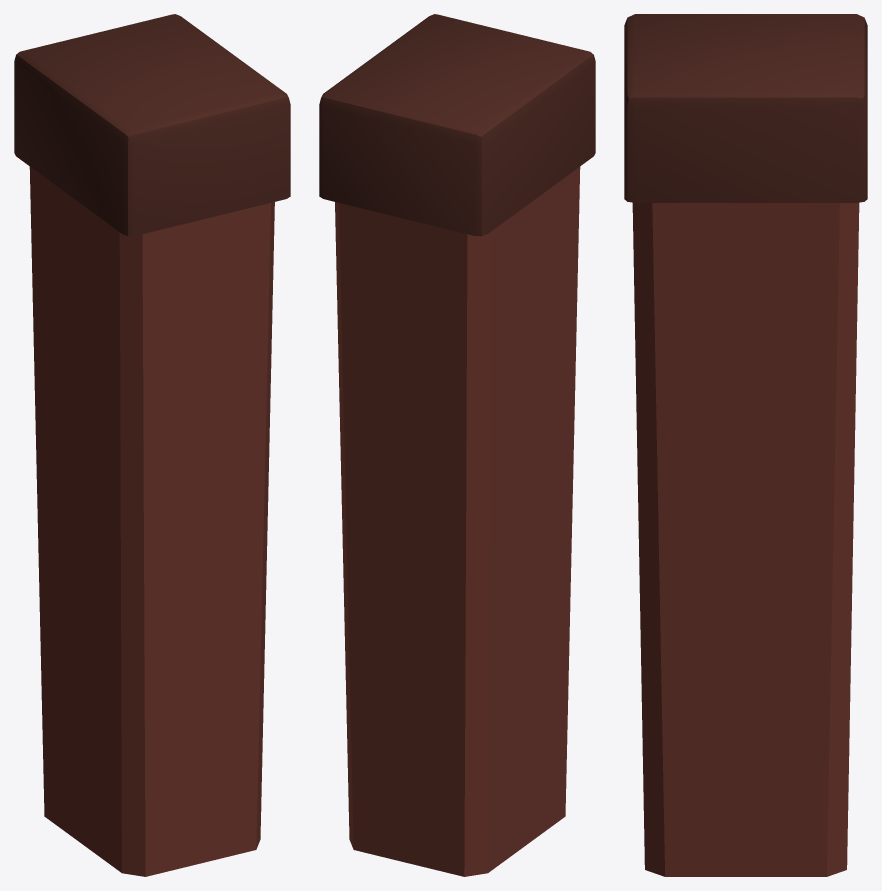
File: fence06.fbx
3 renders of one model, left to right at view 1: azimuth 30°, elevation 25°; view 2: azimuth 150°, elevation 25°; view 3: azimuth 270°, elevation 25°, orthographic. The views are drawn at different scales.
Visible parts, largest first — view 1: fence06; view 2: fence06; view 3: fence06.
Part boxes in pixels (x1=…): fence06: x1=14, y1=14, x2=290, y2=876; fence06: x1=319, y1=14, x2=595, y2=876; fence06: x1=624, y1=14, x2=867, y2=876.
Size of the model in its own units: 0.2394 by 1.04 by 0.29.
